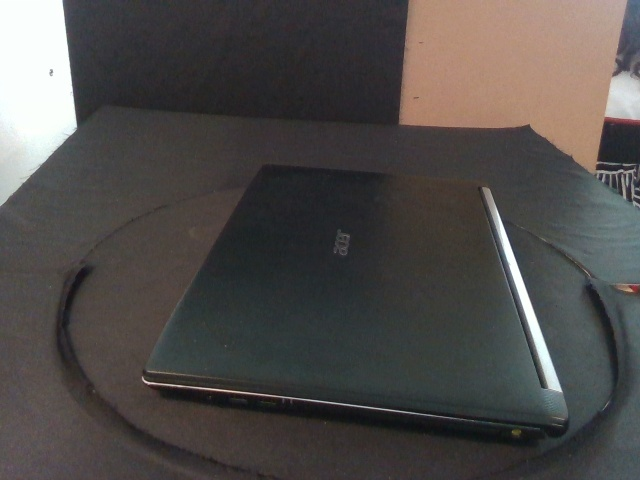laptop: (138, 163, 568, 449)
